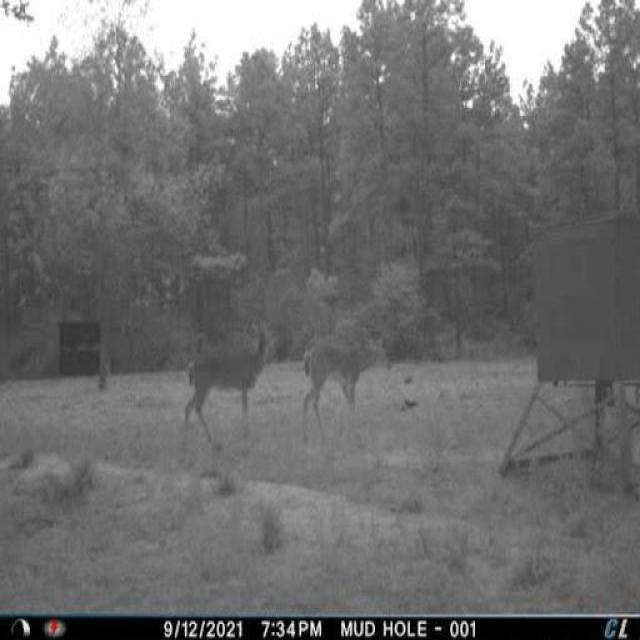deer: (182, 310, 282, 447), (298, 325, 396, 431)
